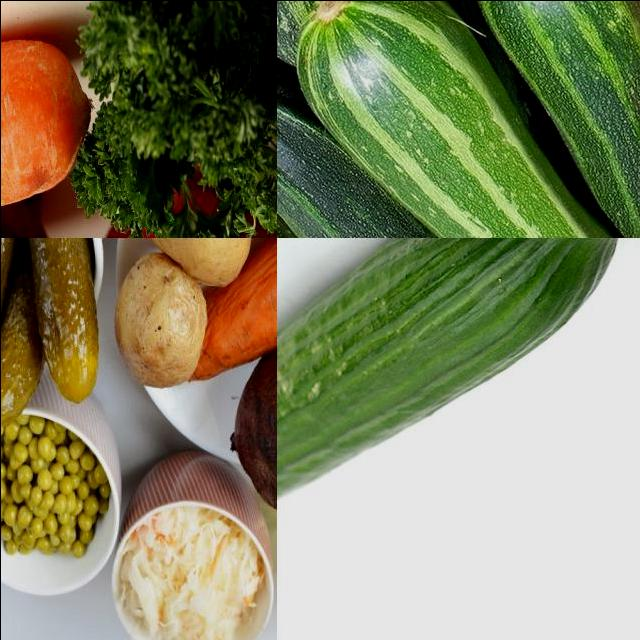beet: (233, 343, 277, 492)
carrot: (1, 101, 83, 238)
cucumber: (277, 238, 640, 584), (1, 238, 94, 415)
potato: (114, 264, 202, 391), (149, 238, 247, 279)
zucchini: (472, 1, 640, 238)
